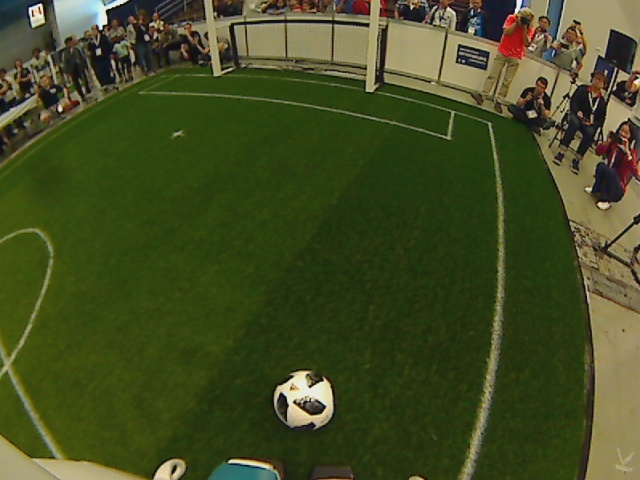ball: (271, 369, 338, 432)
